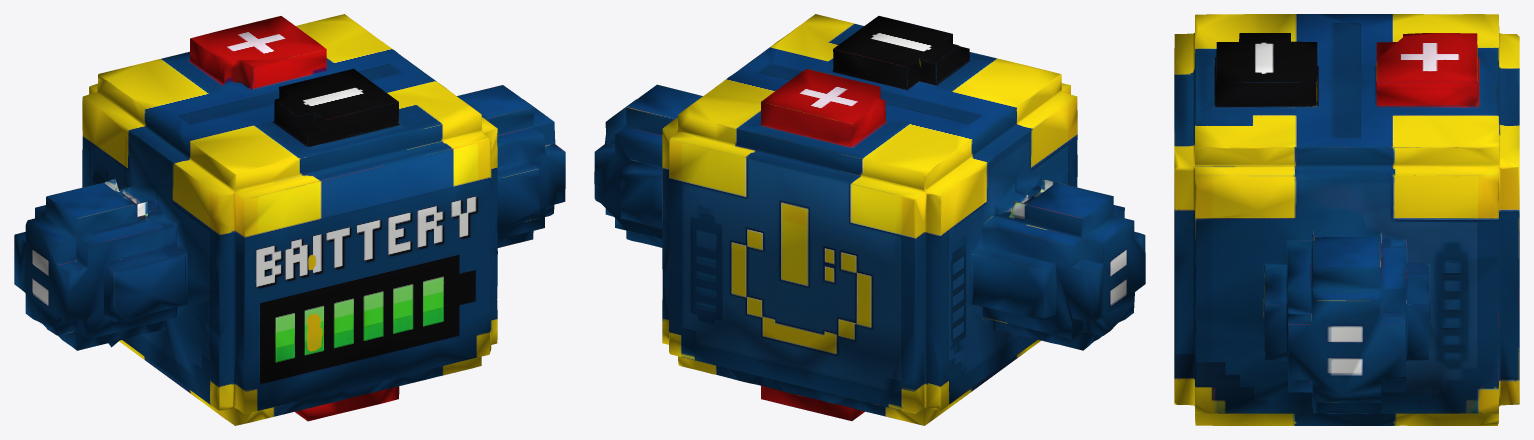
File: Meshy_AI_Voxel_Battery_Cube_0408033655_texture.fbx
3 views of the same model, side by side, from view 1: azimuth 30°, elevation 25°; view 2: azimuth 150°, elevation 25°; view 3: azimuth 270°, elevation 25° (orthographic). The views are drawn at different scales.
Visible parts, largest first — view 1: Mesh_0; view 2: Mesh_0; view 3: Mesh_0.
Part boxes in pixels (box(x1,y1,x2,y2)): Mesh_0: box(14, 14, 565, 425); Mesh_0: box(594, 14, 1145, 425); Mesh_0: box(1174, 14, 1519, 425).
Bounding box in the file's own units: 1753 × 1000 × 950.
1 material, 1 textured.
